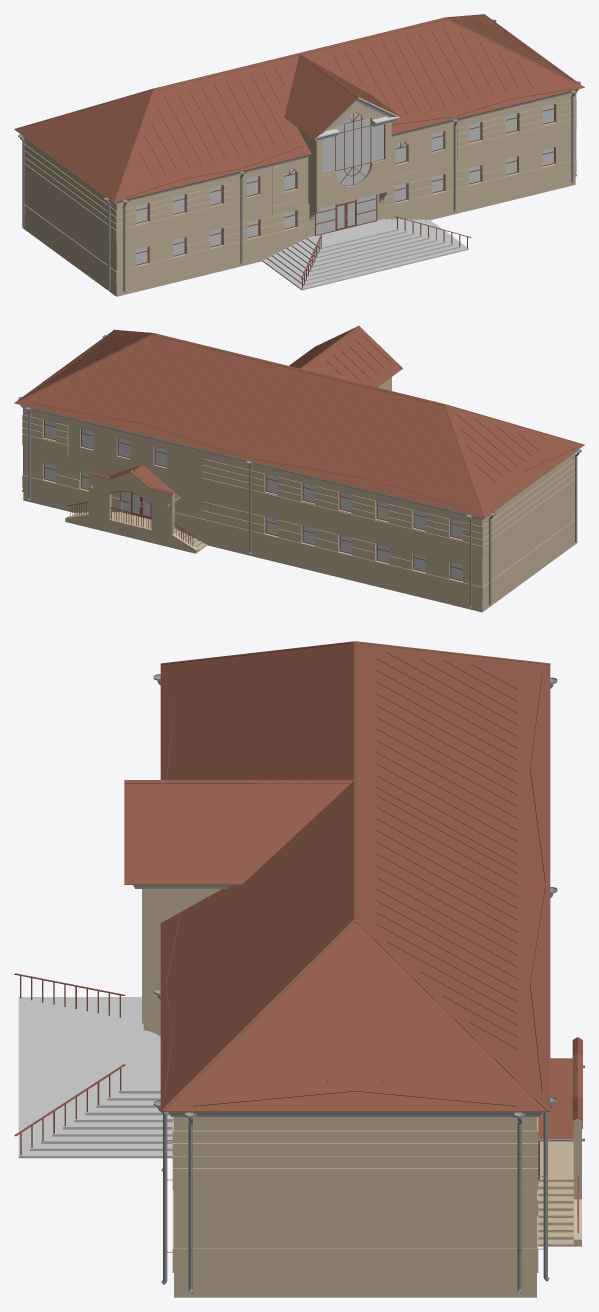
File: house_2.fbx
3 renders of one model, top to bottom at view 1: azimuth 30°, elevation 25°; view 2: azimuth 150°, elevation 25°; view 3: azimuth 270°, elevation 25°, orthographic. The views are drawn at different scales.
Parts seen in each view (by area): view 1: roof, face_A, porch, face_D, roof_4, window_2, roof_2, balcony_3, balcony_2, tube, ledge, balcony (+1 smaller); view 2: roof, face_B, face_D, porch_2, roof_4, window_2, roof_2, tube, ledge; view 3: roof, face_C, porch, roof_4, roof_2, porch_2, tube, balcony, ledge, face_B, face_A, balcony_3 (+1 smaller).
Part boxes in pixels (box(x1,y1,x2,y2)): roof: box(15, 15, 583, 202); face_A: box(112, 93, 575, 296); porch: box(262, 194, 471, 290); face_D: box(24, 140, 116, 292); roof_4: box(14, 14, 584, 202); window_2: box(136, 104, 554, 265); roof_2: box(284, 56, 402, 139); balcony_3: box(309, 102, 391, 220); balcony_2: box(322, 112, 384, 185); tube: box(18, 19, 580, 292); ledge: box(24, 89, 579, 204); balcony: box(297, 127, 314, 207); roof: box(15, 330, 583, 517); face_B: box(23, 408, 486, 612); face_D: box(482, 456, 574, 608); porch_2: box(65, 464, 207, 553); roof_4: box(14, 329, 584, 517); window_2: box(44, 420, 462, 581); roof_2: box(289, 327, 402, 387); tube: box(18, 335, 581, 607); ledge: box(20, 405, 575, 519); roof: box(160, 643, 550, 1111); face_C: box(172, 1117, 538, 1297); porch: box(14, 973, 172, 1158); roof_4: box(138, 641, 550, 1111); roof_2: box(124, 783, 350, 884); porch_2: box(538, 1037, 584, 1246); tube: box(153, 674, 557, 1293); balcony: box(150, 889, 221, 1023); ledge: box(168, 1112, 542, 1116); face_B: box(519, 1117, 538, 1297); face_A: box(172, 1117, 191, 1297); balcony_3: box(142, 889, 160, 1036).
Size of the model in its own units: 38.76 by 11.92 by 20.62.
